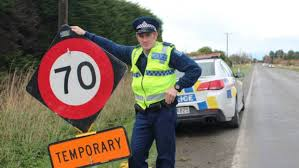Speed_limit_70km: (38, 38, 114, 118)
